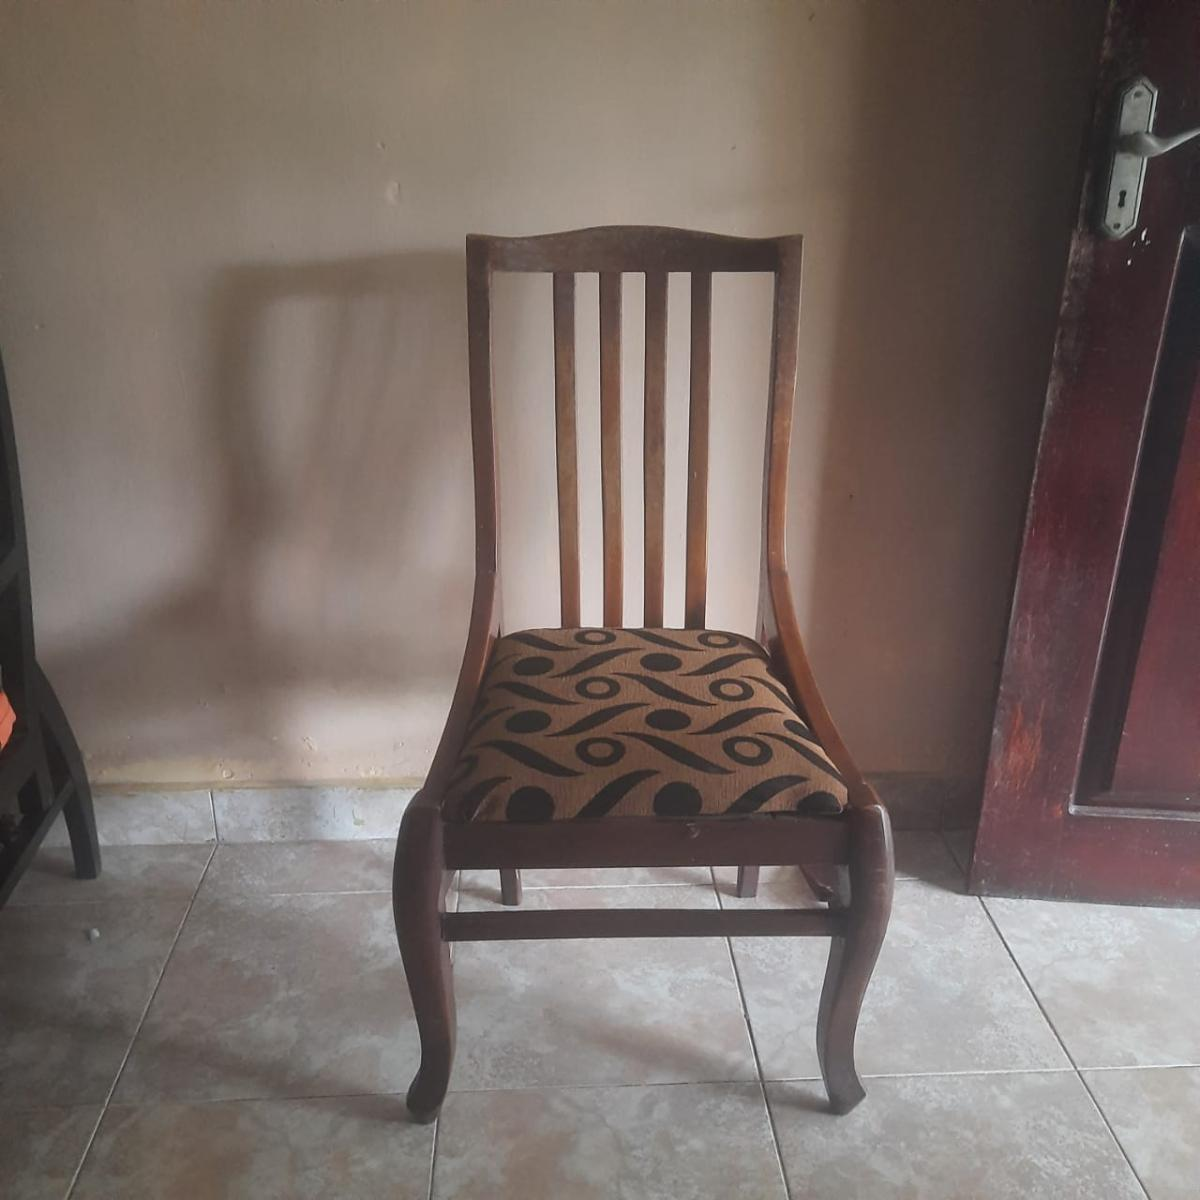Chair: (390, 223, 896, 1125)
